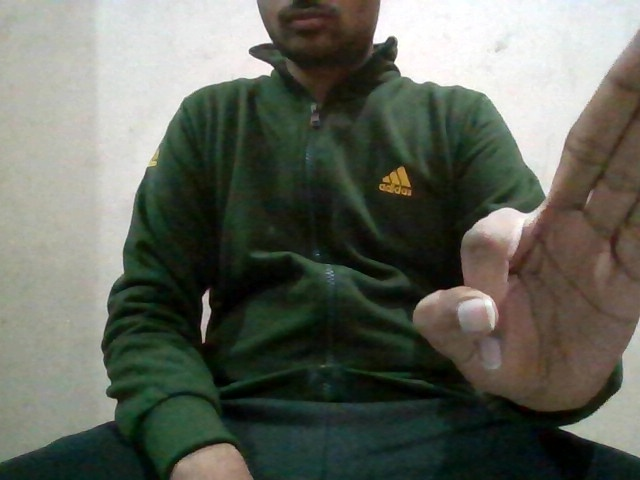F: (414, 18, 640, 425)
